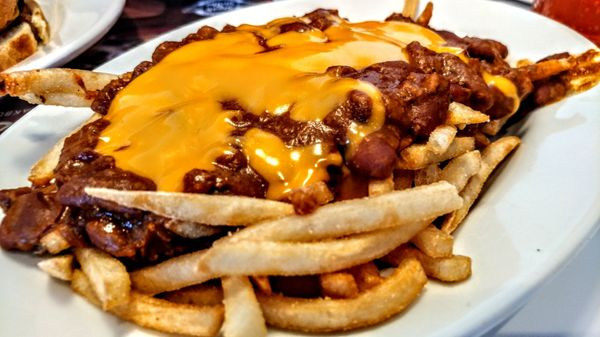soup: (2, 9, 523, 330), (0, 0, 52, 72)
